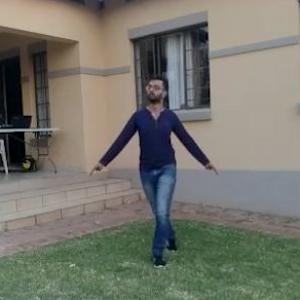land: (109, 92, 198, 235)
